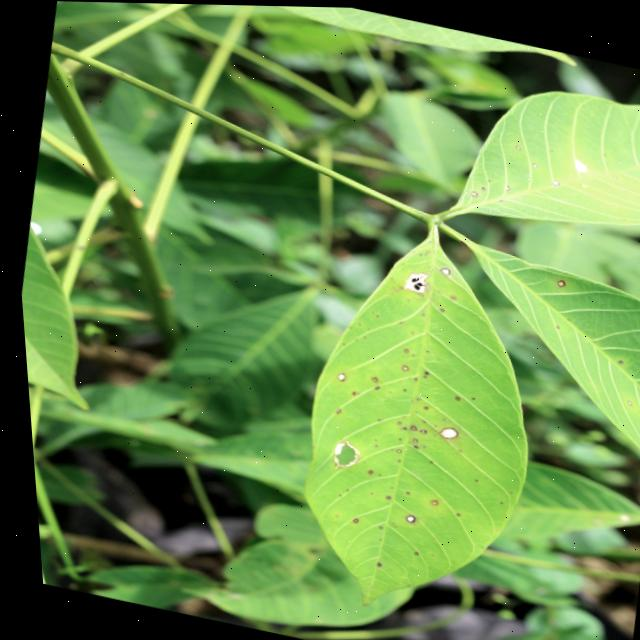Colletotrichum: (431, 424, 452, 439), (396, 512, 407, 522), (435, 265, 447, 274), (330, 371, 340, 380), (552, 277, 562, 285), (364, 375, 371, 381), (402, 424, 410, 429), (395, 364, 403, 369), (422, 498, 430, 503), (344, 516, 350, 522), (412, 427, 419, 432), (396, 347, 403, 352), (448, 394, 453, 400), (620, 398, 625, 404), (389, 447, 394, 451)
